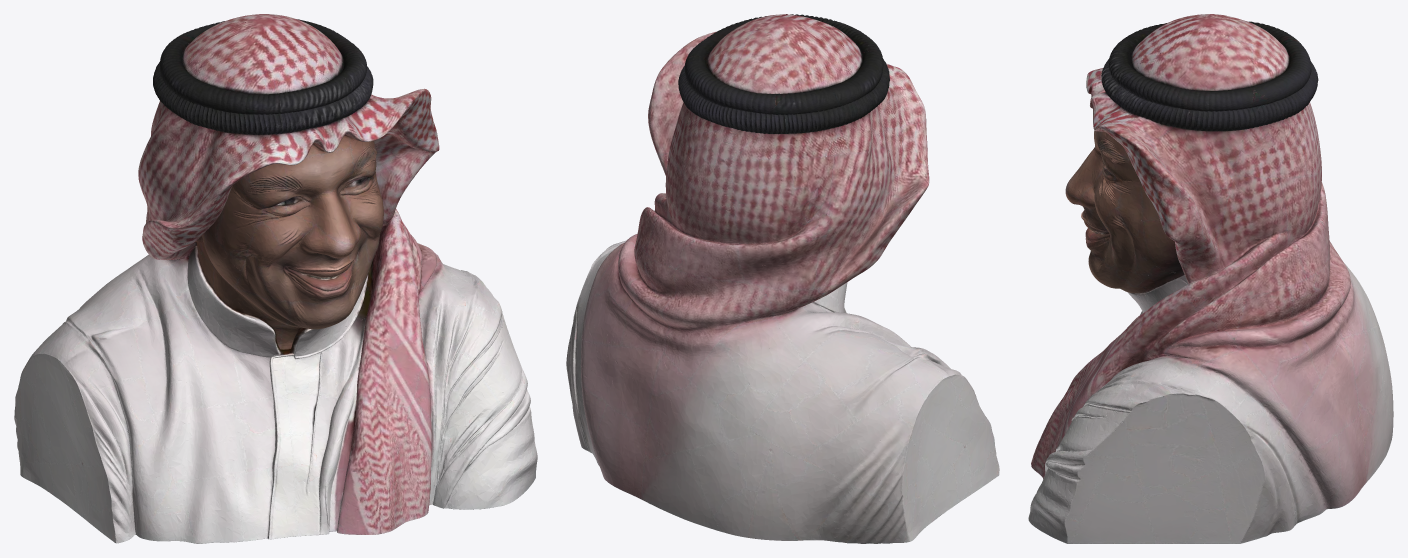
File: MajidAbdullah.preview-v1.glb
The picture shows the model from 3 angles, left to right: view 1: azimuth 30°, elevation 25°; view 2: azimuth 150°, elevation 25°; view 3: azimuth 270°, elevation 25°; orthographic projection. The views are drawn at different scales.
Parts seen in each view (by area): view 1: tmpcfvqdlp8.obj; view 2: tmpcfvqdlp8.obj; view 3: tmpcfvqdlp8.obj.
Part boxes in pixels (x1,y1,x2,y2): tmpcfvqdlp8.obj: [14, 14, 537, 543]; tmpcfvqdlp8.obj: [566, 14, 999, 543]; tmpcfvqdlp8.obj: [1028, 14, 1393, 543].
Size of the model in its own units: 1.38 by 1.54 by 1.18.
Materials: 1 (1 with a texture image).
